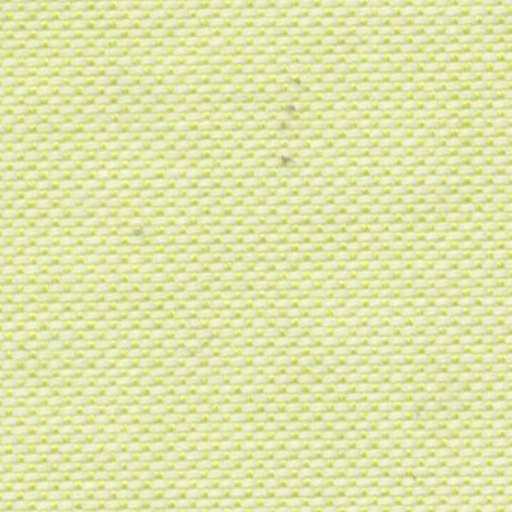WuZi: (265, 74, 316, 178)
